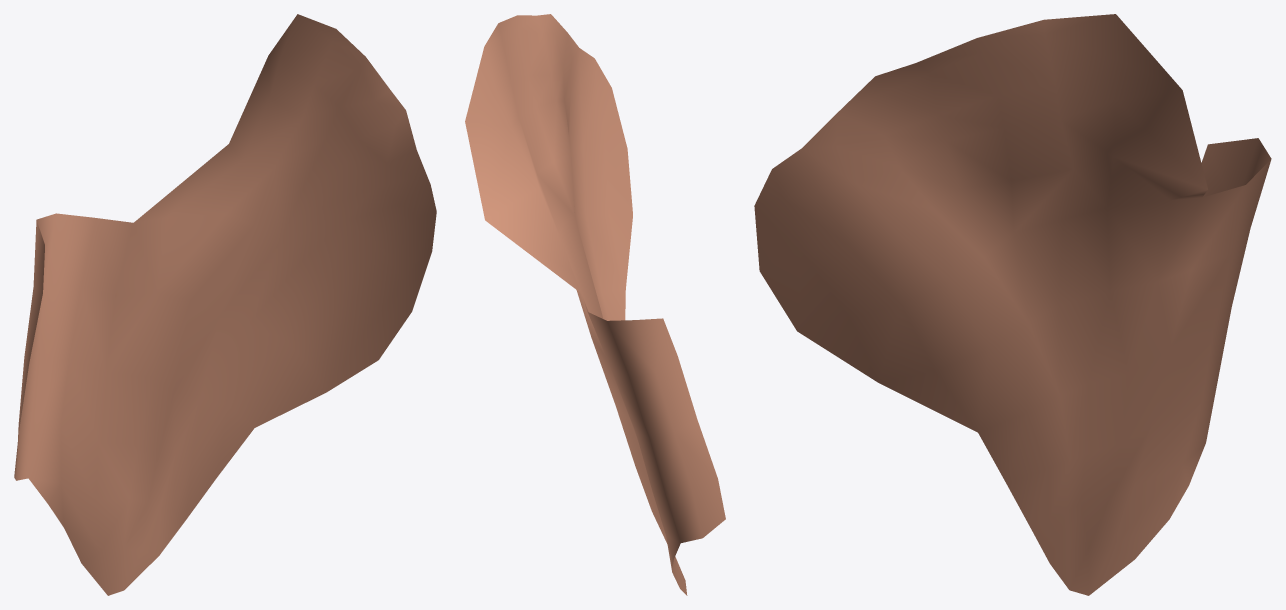
File: parotid-gland-l.glb
3 views of the same model, side by side, from view 1: azimuth 30°, elevation 25°; view 2: azimuth 150°, elevation 25°; view 3: azimuth 270°, elevation 25° (orthographic). The views are drawn at different scales.
Parts seen in each view (by area): view 1: Parotid gland.l; view 2: Parotid gland.l; view 3: Parotid gland.l.
Boxes of the visible parts, bbox=[...] form: Parotid gland.l: bbox=[14, 14, 436, 595]; Parotid gland.l: bbox=[465, 14, 725, 595]; Parotid gland.l: bbox=[754, 14, 1271, 595].
Size of the model in its own units: 0.0272 by 0.048 by 0.0314.
